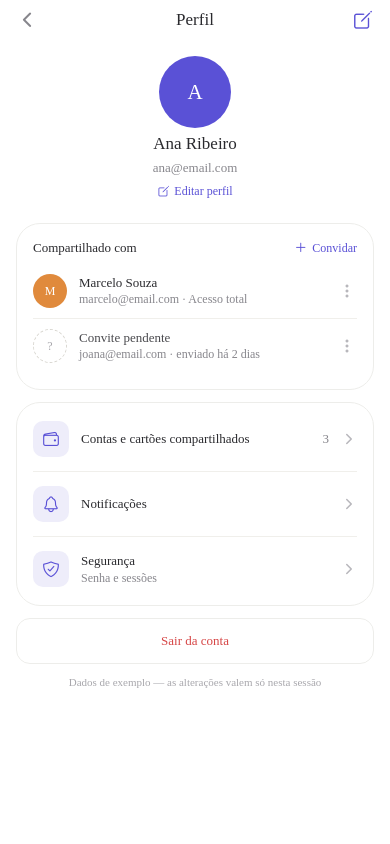
Test: Perfil › menu de um membro › voltar para acesso total também funciona
Click the button named "Opções de Marcelo Souza" at (347, 291), box [337,280,357,302]
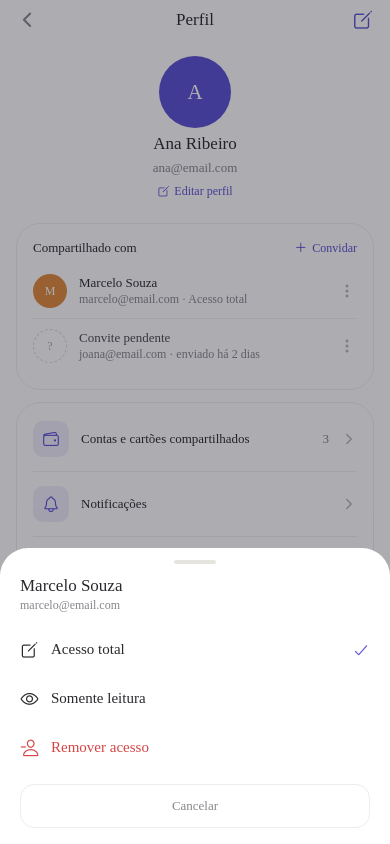
Click the text "Acesso total" at (88, 649), box [51,641,125,657]
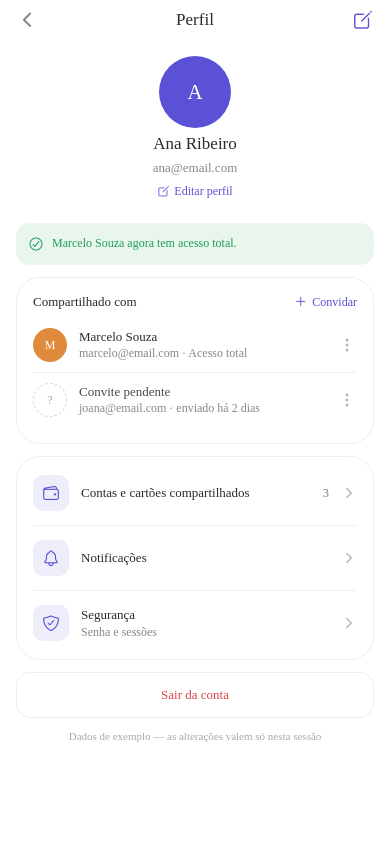
Expected: the text "Marcelo Souza agora tem acesso total." is shown, [52,236,237,250]
